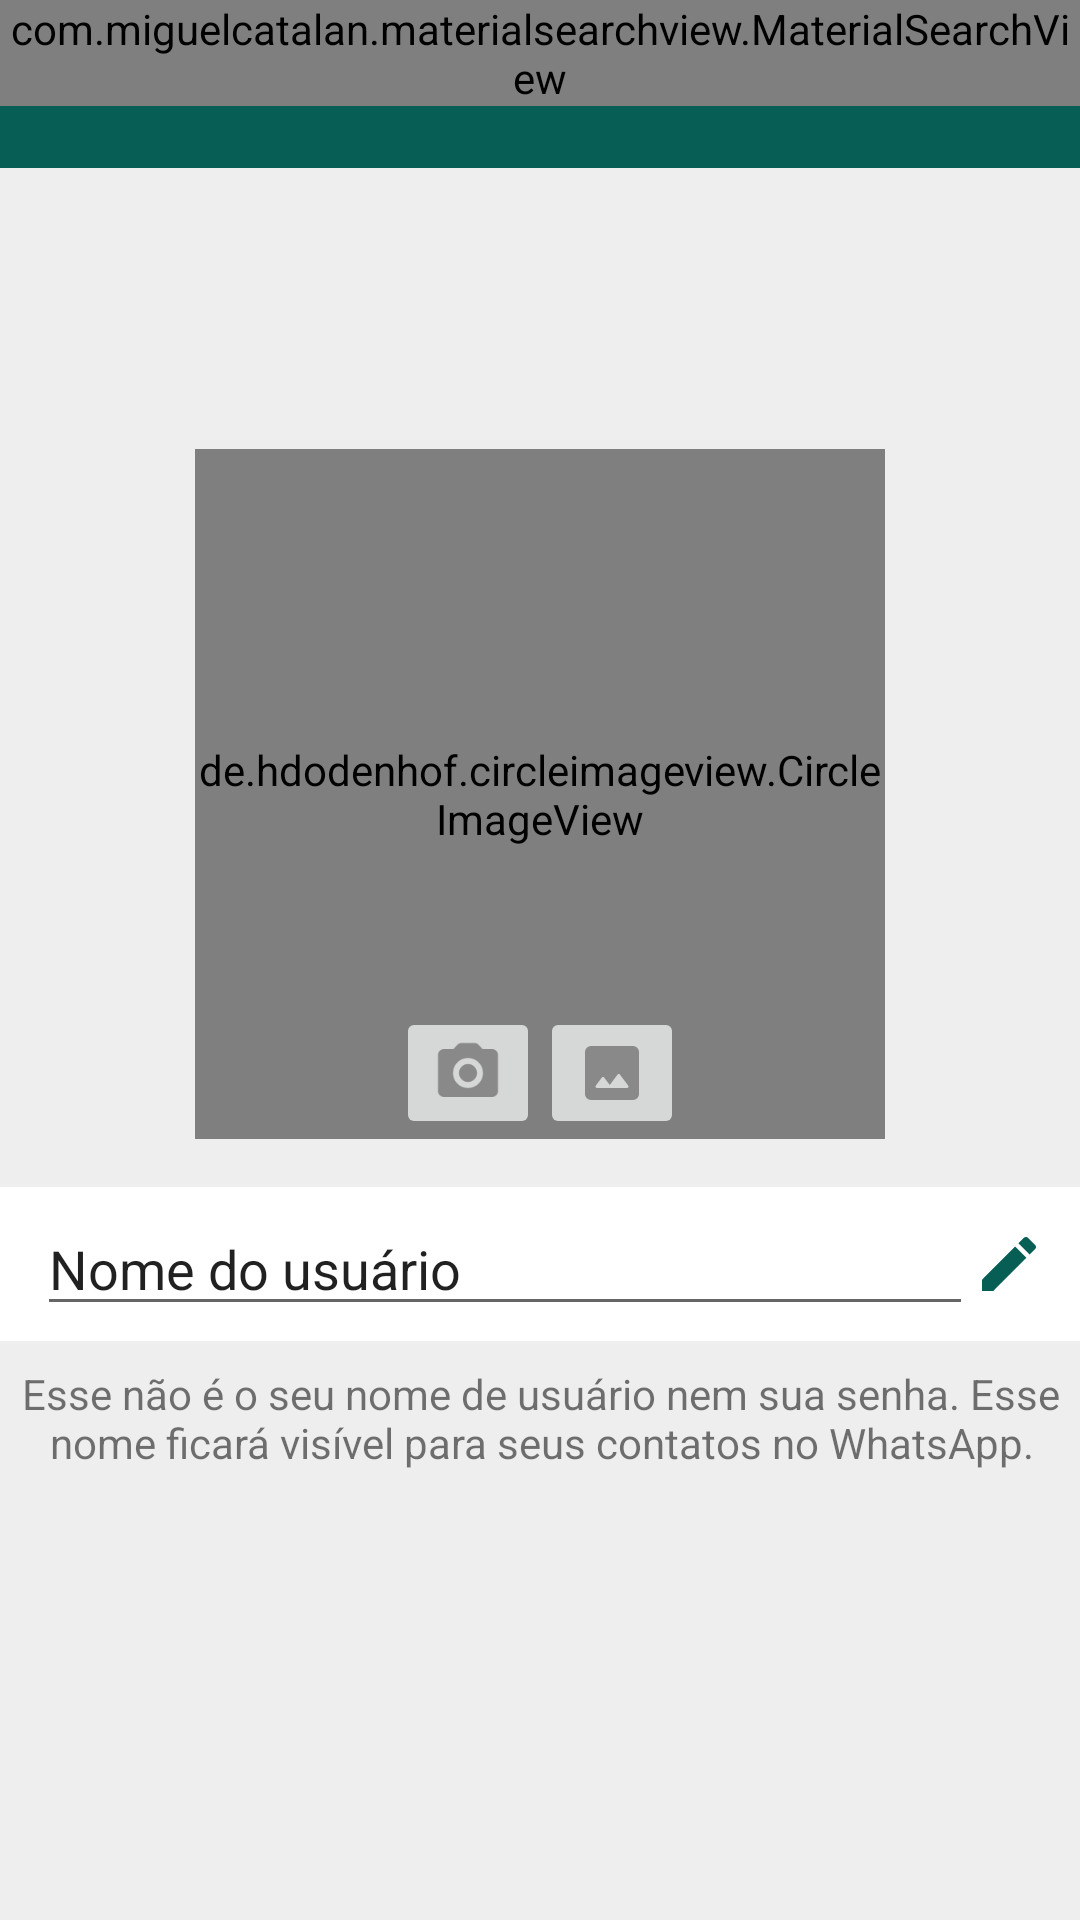

Icons on this 1080x1920 Android screen, each with its box as {"left": x1, "top": y1, "right": x2, "bottom": y2}:
camera: {"left": 408, "top": 1025, "right": 528, "bottom": 1121}
edit: {"left": 982, "top": 1237, "right": 1036, "bottom": 1291}
photo: {"left": 552, "top": 1025, "right": 672, "bottom": 1121}
